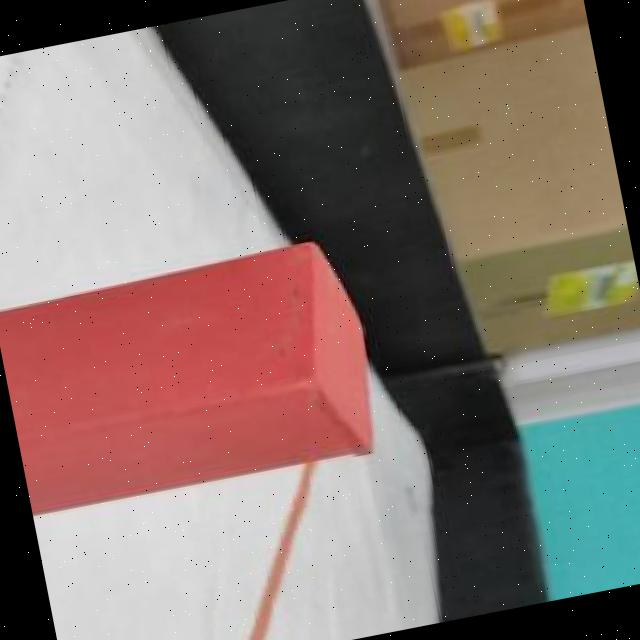redbox: (0, 233, 386, 518)
